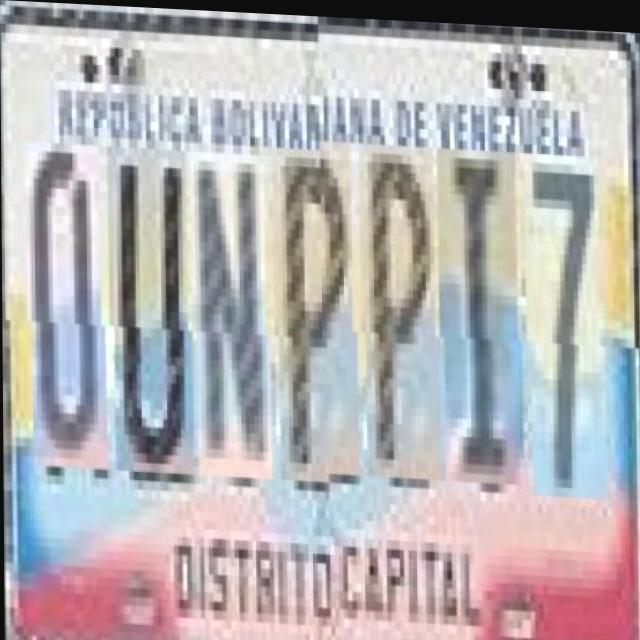0: (29, 141, 106, 469)
7: (528, 155, 606, 501)
i: (441, 152, 523, 488)
n: (194, 149, 271, 477)
p: (276, 144, 358, 480), (364, 148, 441, 484)
u: (111, 145, 193, 473)
